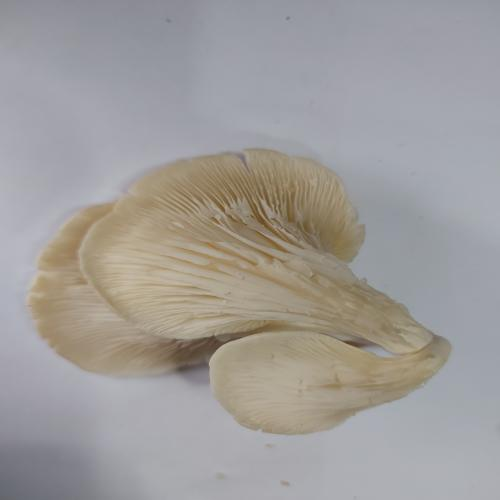Oyster Mushroom: (27, 147, 452, 435)
